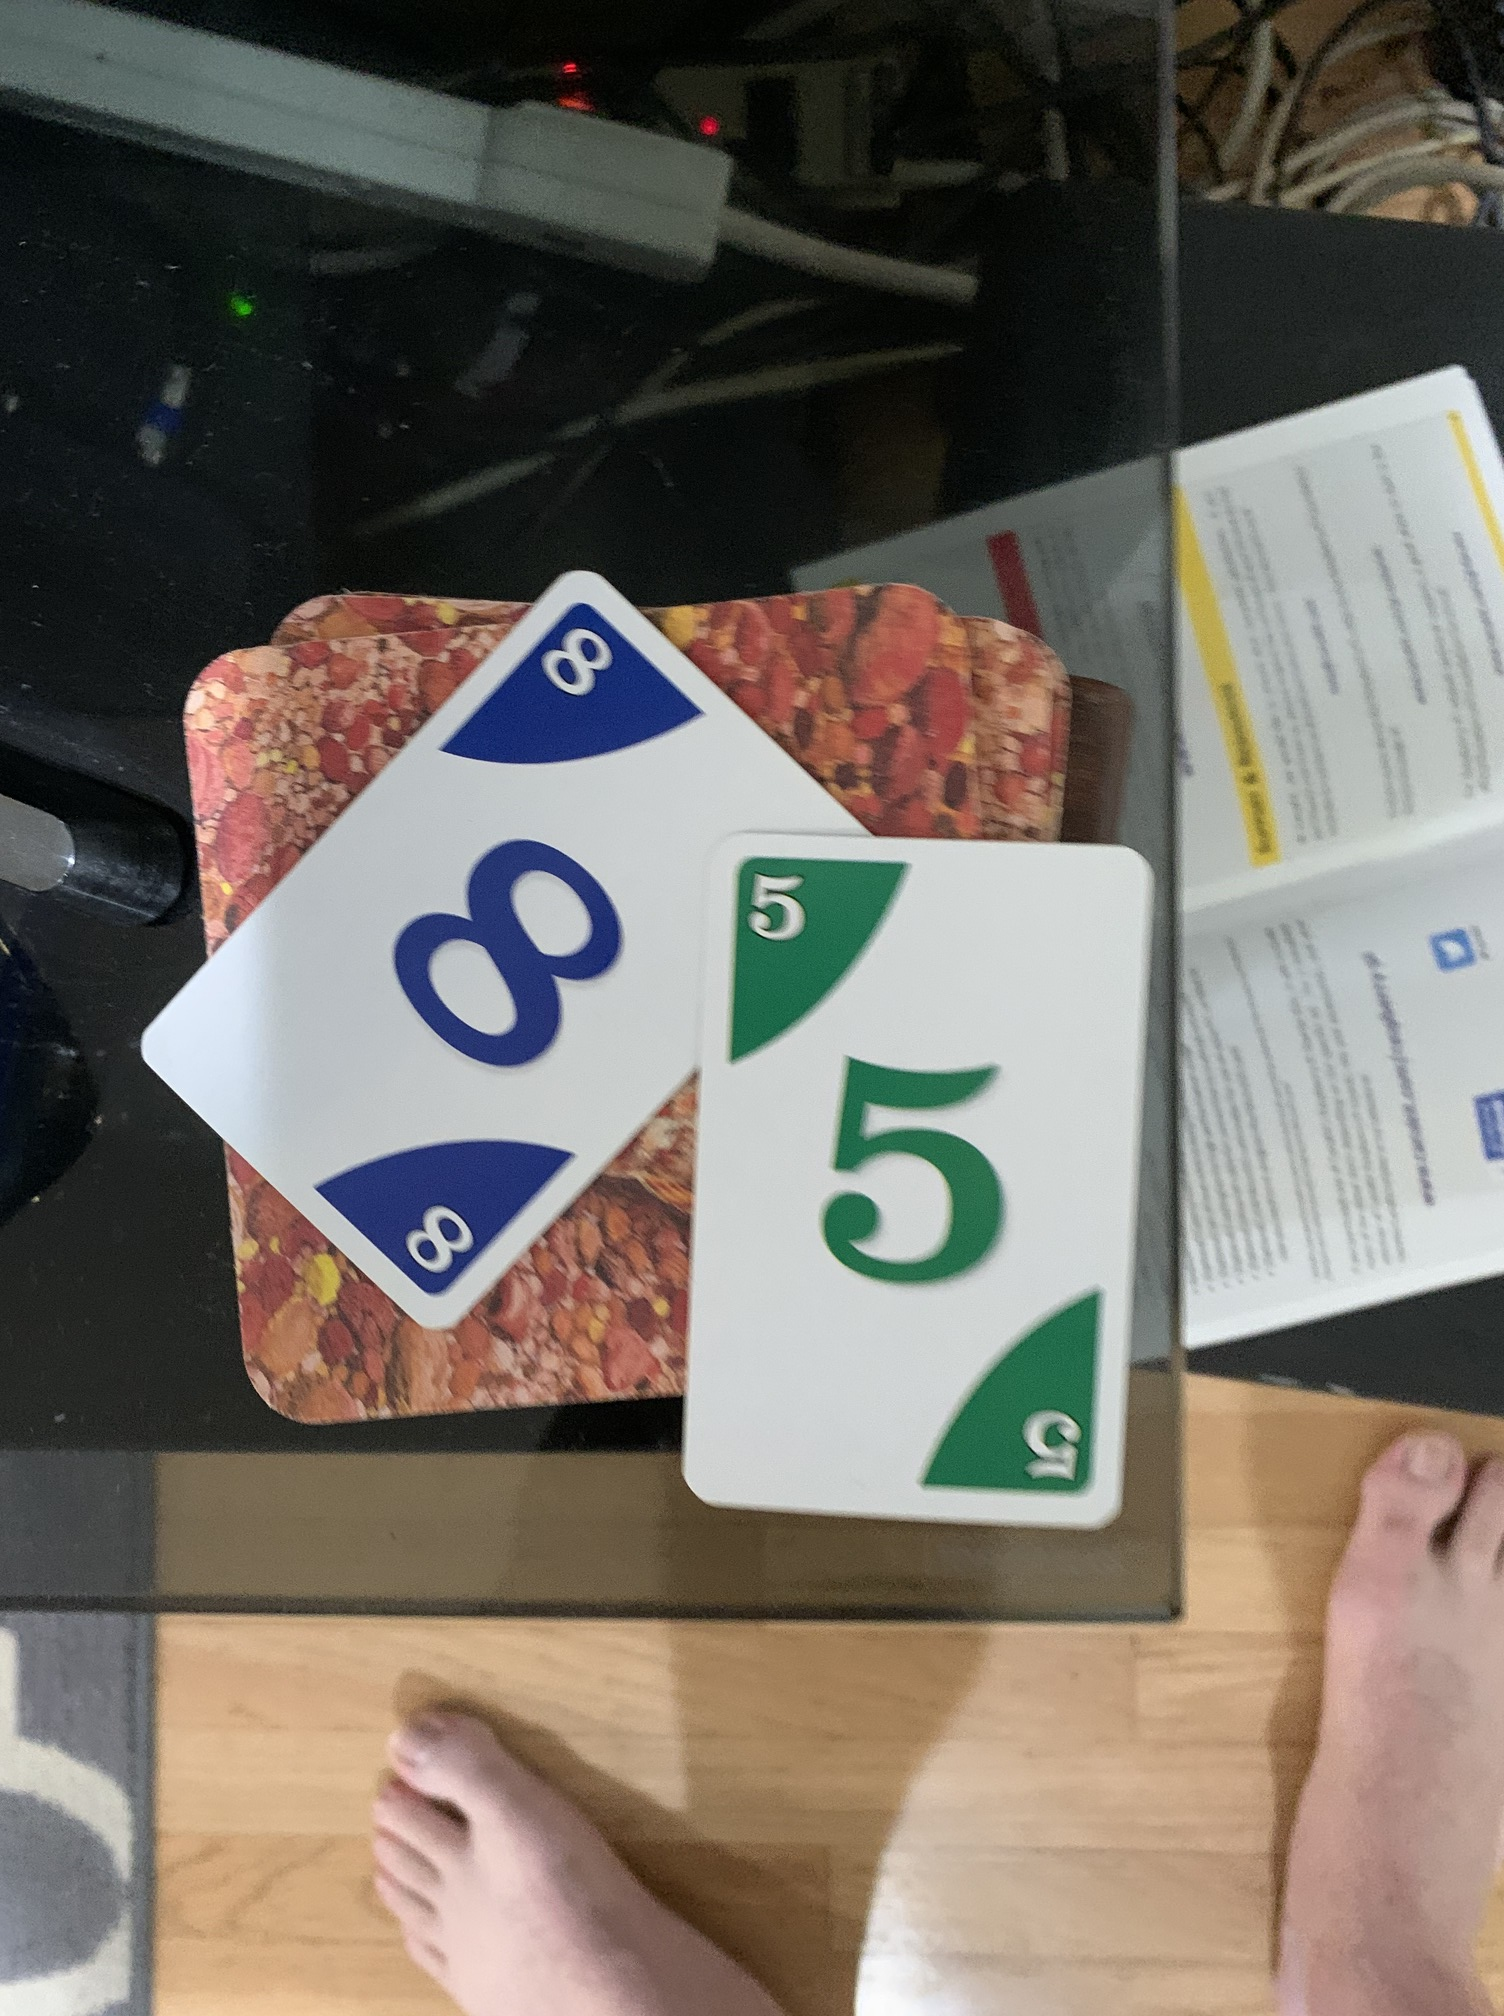eight: (123, 569, 891, 1338)
five: (673, 836, 1160, 1537)
